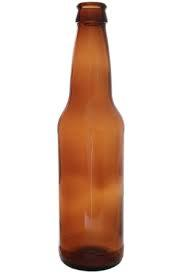Glass bottle: (40, 0, 132, 275)
